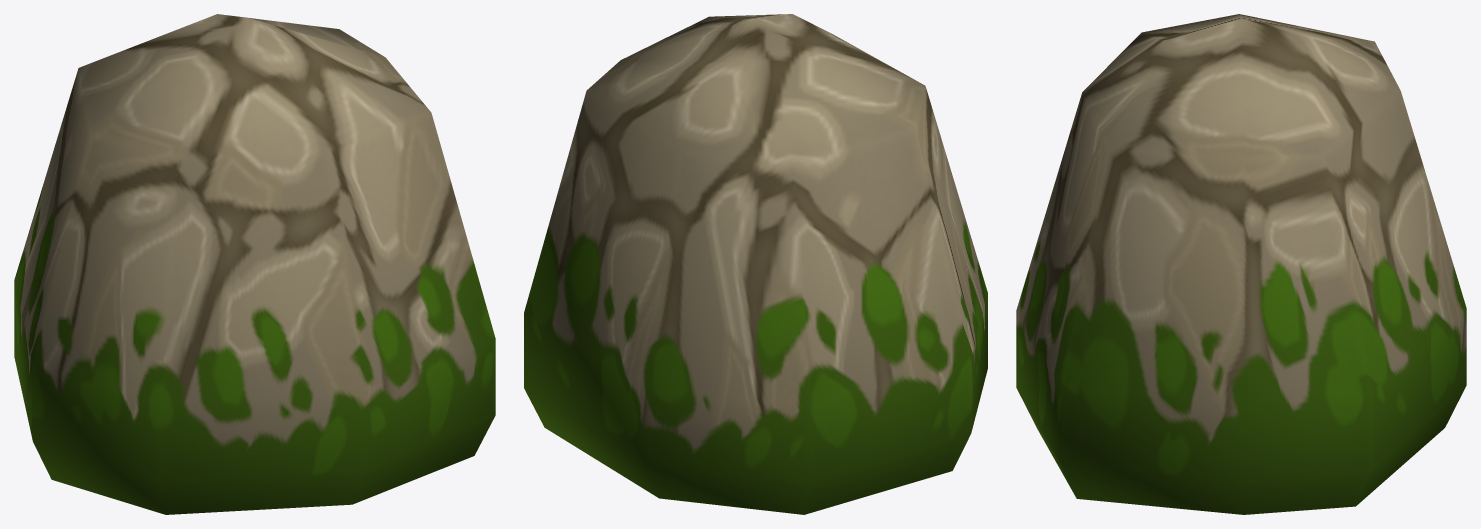
Rendered from Rock_01.FBX.
3 renders of one model, left to right at view 1: azimuth 30°, elevation 25°; view 2: azimuth 150°, elevation 25°; view 3: azimuth 270°, elevation 25°, orthographic.
Visible parts, largest first — view 1: Rock_01; view 2: Rock_01; view 3: Rock_01.
Part boxes in pixels (left/top/right/bottom): Rock_01: left=14, top=14, right=495, bottom=514; Rock_01: left=524, top=14, right=987, bottom=514; Rock_01: left=1016, top=14, right=1466, bottom=514.
Size of the model in its own units: 36.01 by 34.36 by 34.17.
